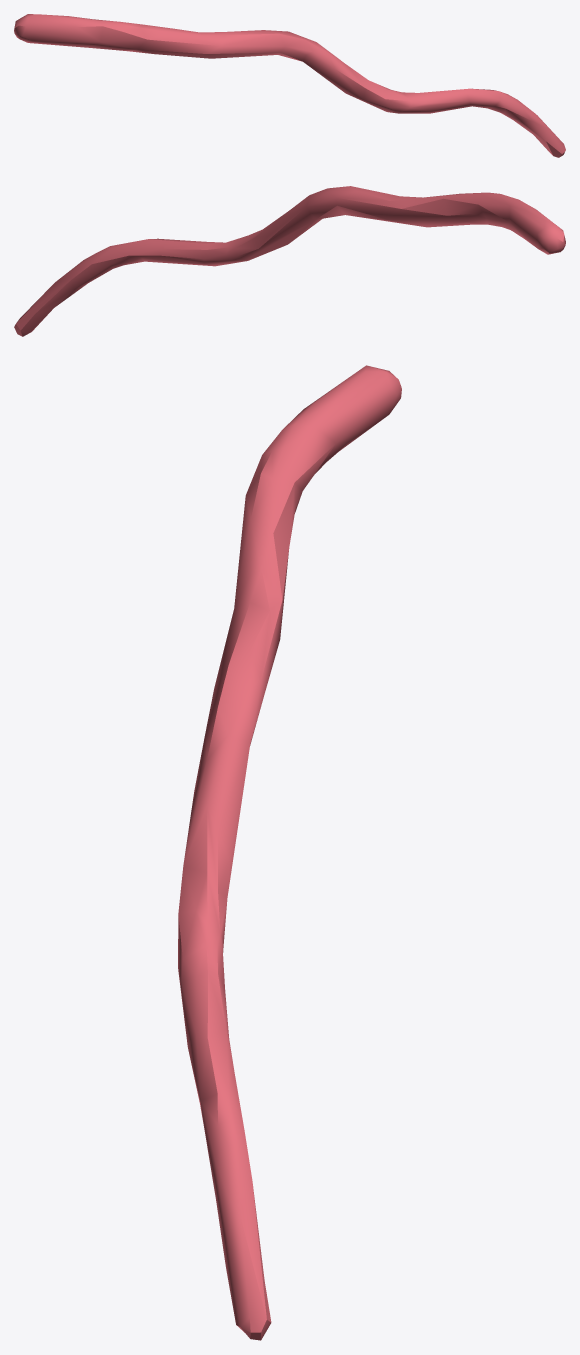
Rendered from fma3815_fj2673.glb.
The picture shows the model from 3 angles, top to bottom: view 1: azimuth 30°, elevation 25°; view 2: azimuth 150°, elevation 25°; view 3: azimuth 270°, elevation 25°; orthographic projection. The views are drawn at different scales.
Visible parts, largest first — view 1: FMA3815_FJ2673; view 2: FMA3815_FJ2673; view 3: FMA3815_FJ2673.
Boxes of the visible parts, x1=… form: FMA3815_FJ2673: x1=14, y1=14, x2=565, y2=157; FMA3815_FJ2673: x1=14, y1=186, x2=565, y2=336; FMA3815_FJ2673: x1=178, y1=365, x2=401, y2=1340.
Bounding box in the file's own units: 0.0223 × 0.00997 × 0.00416.
